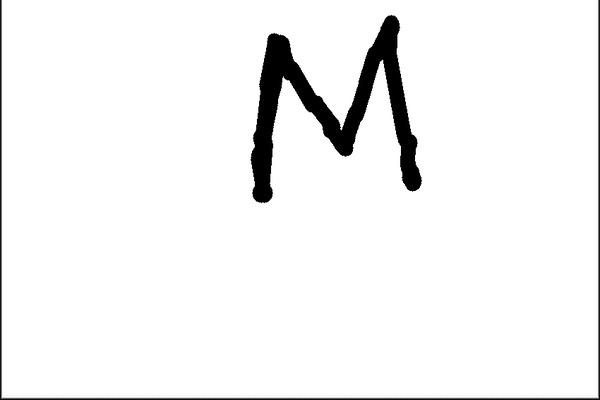M: (250, 11, 427, 198)
